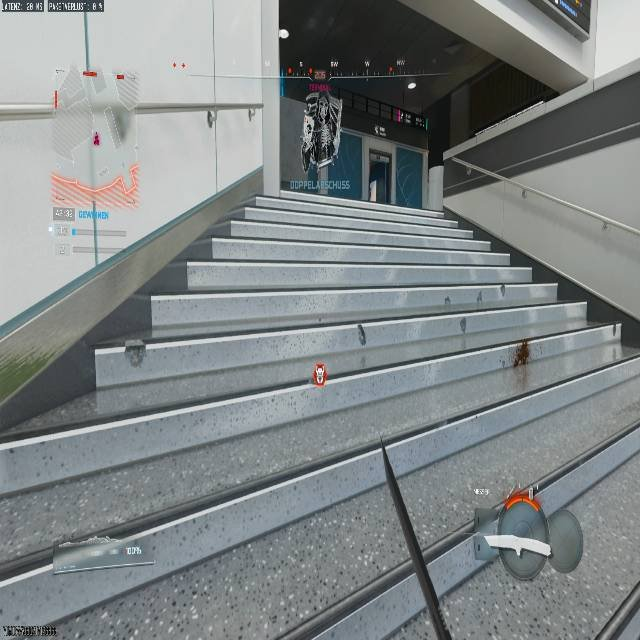head: (0, 0, 640, 640)
player: (300, 81, 340, 188)
